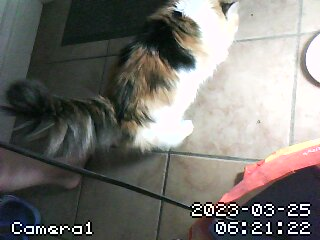clara: (50, 4, 269, 162)
